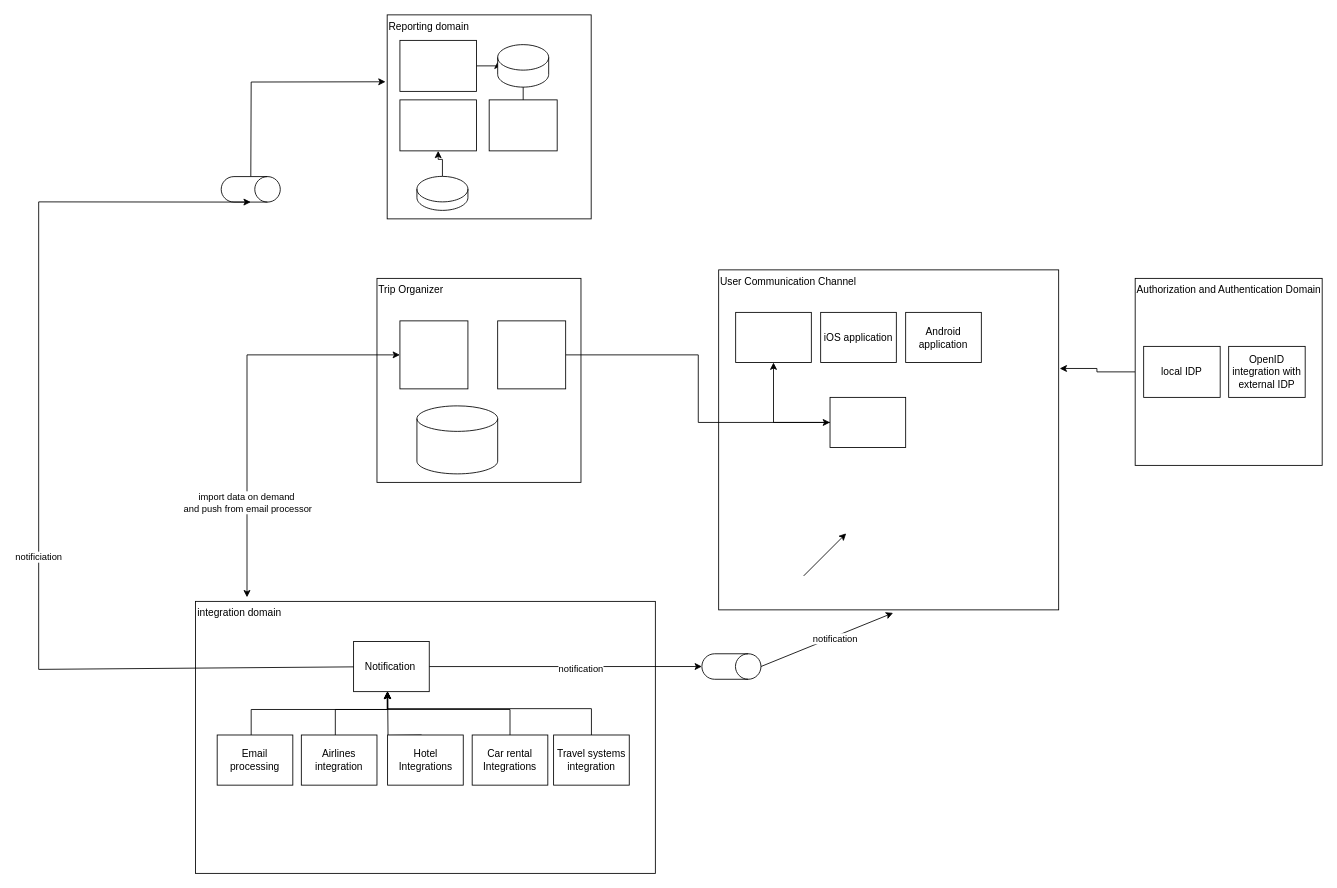
Image size: 1337x888. Some labels were removed from this diagram. The centre of each missing label's shape, as x and y in pixels:
API Gateway: (x=531, y=354)
BFF: (x=867, y=422)
Data Collector: (x=437, y=65)
Data Ingestion: (x=433, y=354)
Data Viewer: (x=522, y=125)
End-Of-Year report creation and caching: (x=437, y=125)
trips and reservations: (x=457, y=439)
WebView: (x=773, y=337)
